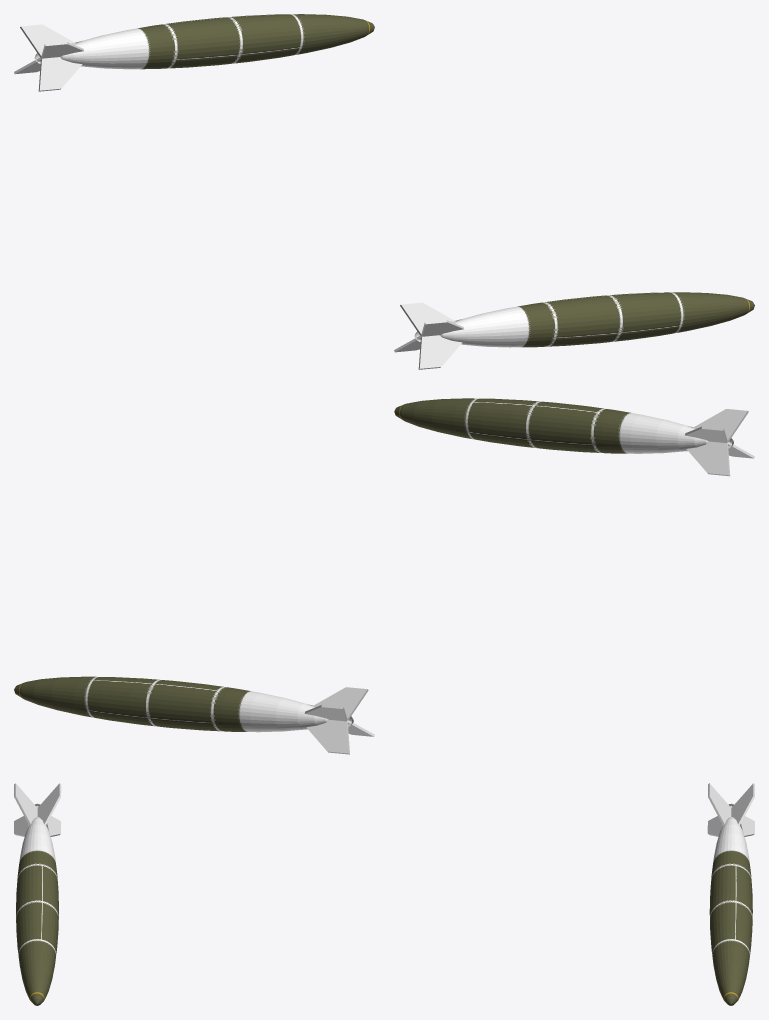
File: a10cgbu3139.glb
3 renders of one model, top to bottom at view 1: azimuth 30°, elevation 25°; view 2: azimuth 150°, elevation 25°; view 3: azimuth 270°, elevation 25°, orthographic. The views are drawn at different scales.
Parts seen in each view (by area): view 1: 立方体.005, 立方体.006; view 2: 立方体.005, 立方体.006; view 3: 立方体.006, 立方体.005.
Part boxes in pixels (left/top/right/bottom): 立方体.005: left=394, top=292, right=754, bottom=369; 立方体.006: left=14, top=14, right=374, bottom=91; 立方体.005: left=394, top=398, right=754, bottom=476; 立方体.006: left=14, top=676, right=374, bottom=754; 立方体.006: left=707, top=783, right=754, bottom=1005; 立方体.005: left=14, top=783, right=61, bottom=1005.
Bounding box in the file's own units: 3.8 × 0.8684 × 7.67.
1 material, 1 textured.
